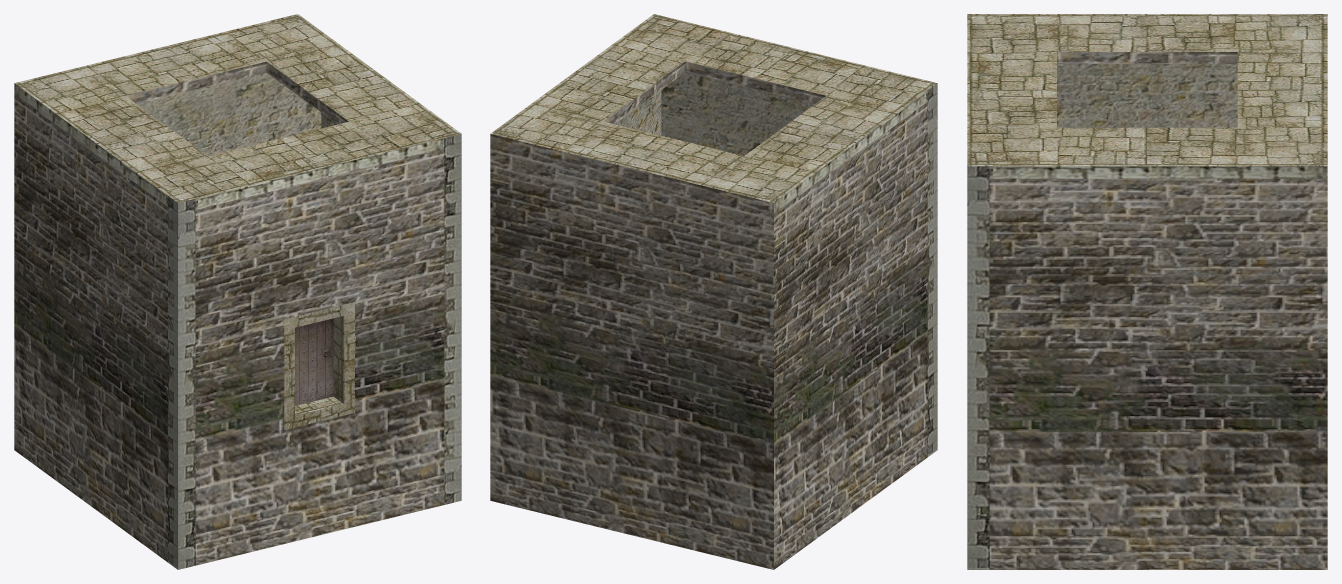
Rendered from building_dungeon.glb.
The picture shows the model from 3 angles, left to right: view 1: azimuth 30°, elevation 25°; view 2: azimuth 150°, elevation 25°; view 3: azimuth 270°, elevation 25°; orthographic projection. The views are drawn at different scales.
Parts seen in each view (by area): view 1: building_dungeon; view 2: building_dungeon; view 3: building_dungeon.
Boxes of the visible parts, box(x1,y1,x2,y2) form: building_dungeon: box(14, 14, 461, 569); building_dungeon: box(490, 14, 937, 569); building_dungeon: box(967, 14, 1327, 569).
Bounding box in the file's own units: 8.2 × 10.13 × 8.22.
4 materials, 4 textured.
